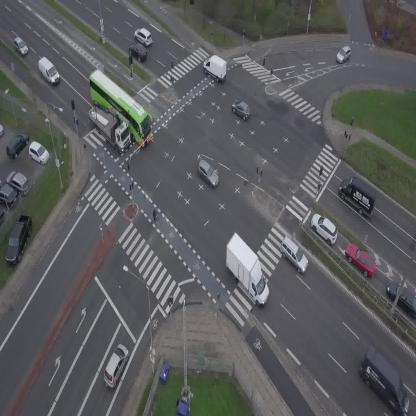bicycle: (150, 208, 161, 227)
bus: (79, 64, 163, 149)
car: (340, 237, 382, 281), (99, 342, 133, 390), (275, 235, 314, 275), (306, 209, 343, 247), (192, 158, 224, 189), (228, 96, 255, 122), (125, 39, 151, 65), (131, 24, 156, 49), (9, 35, 31, 59), (333, 44, 354, 65)
lorry: (212, 229, 283, 310), (81, 97, 139, 154), (332, 172, 385, 221), (198, 51, 233, 85), (34, 55, 63, 85)
